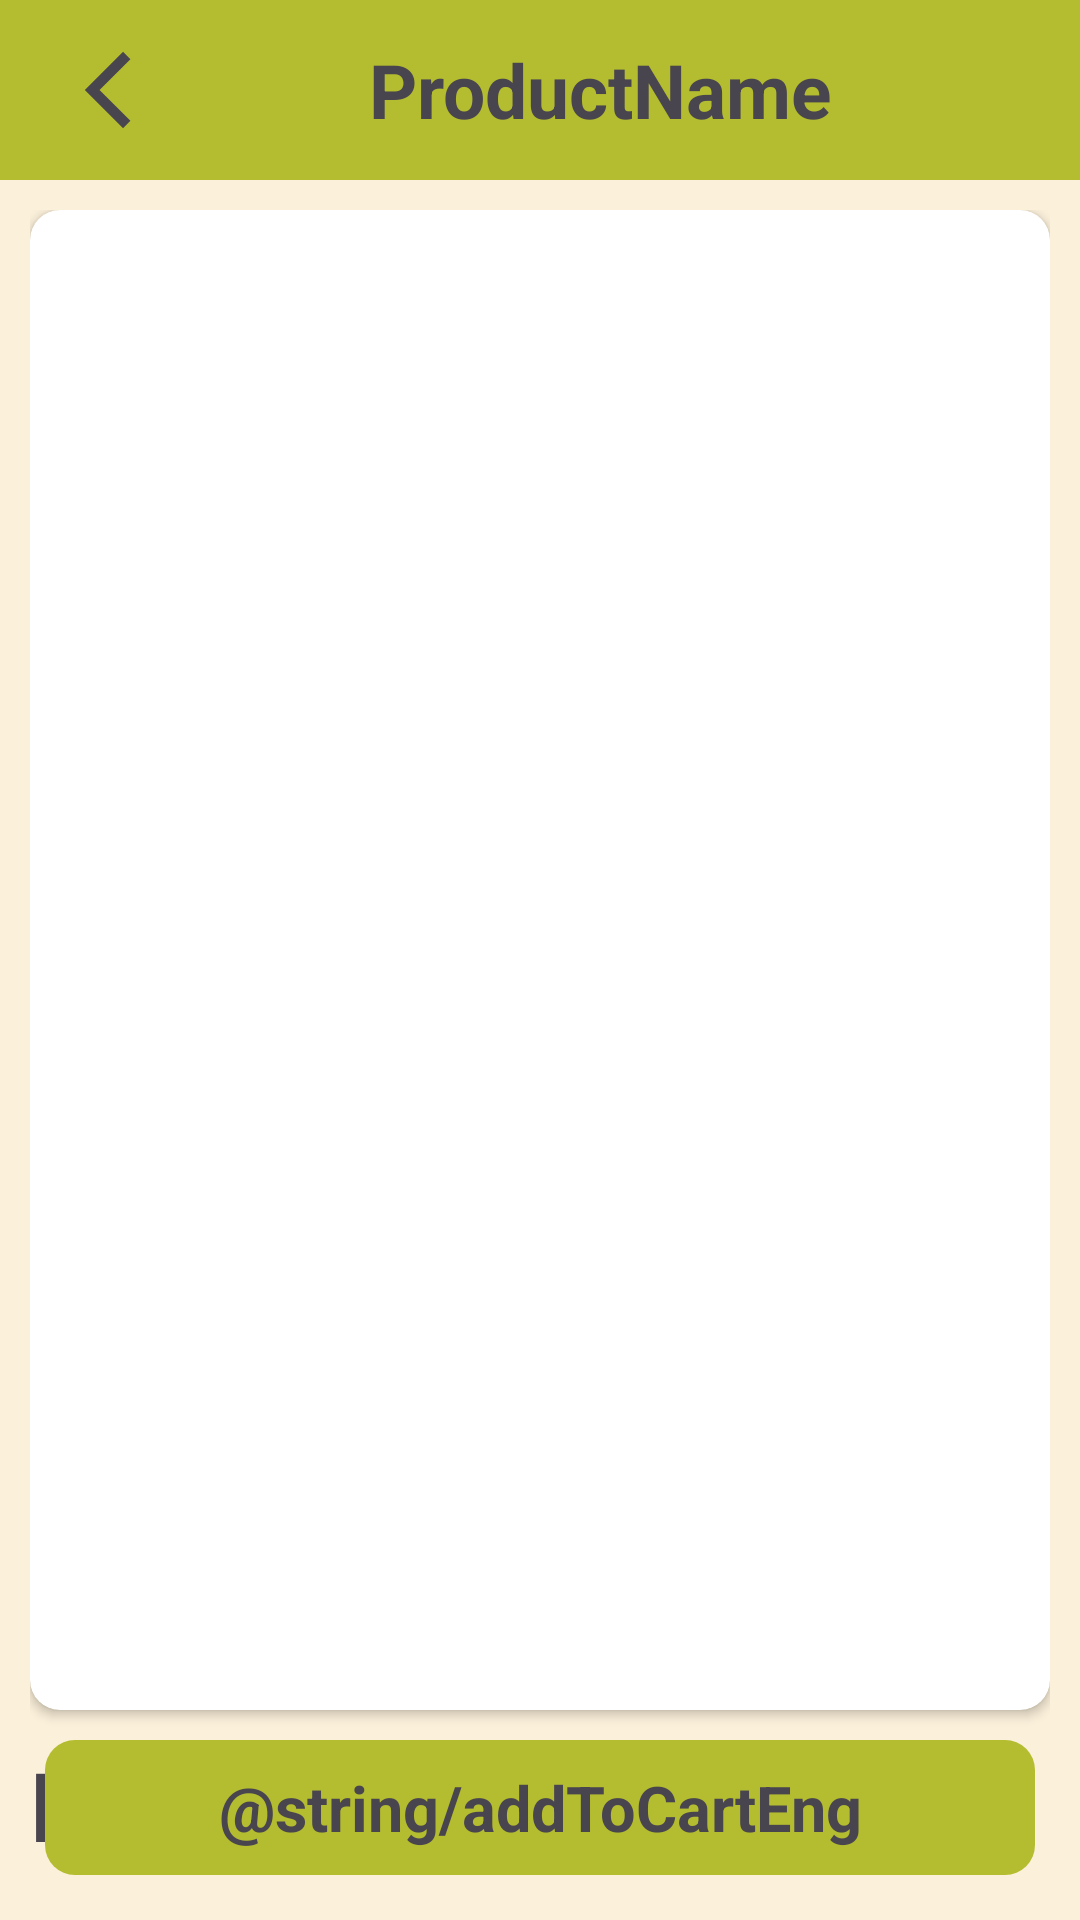

Icons on this 1080 × 1920 Android screen, each with its box as (x1, y1, x2, y2):
arrow: (85, 52, 130, 128)
